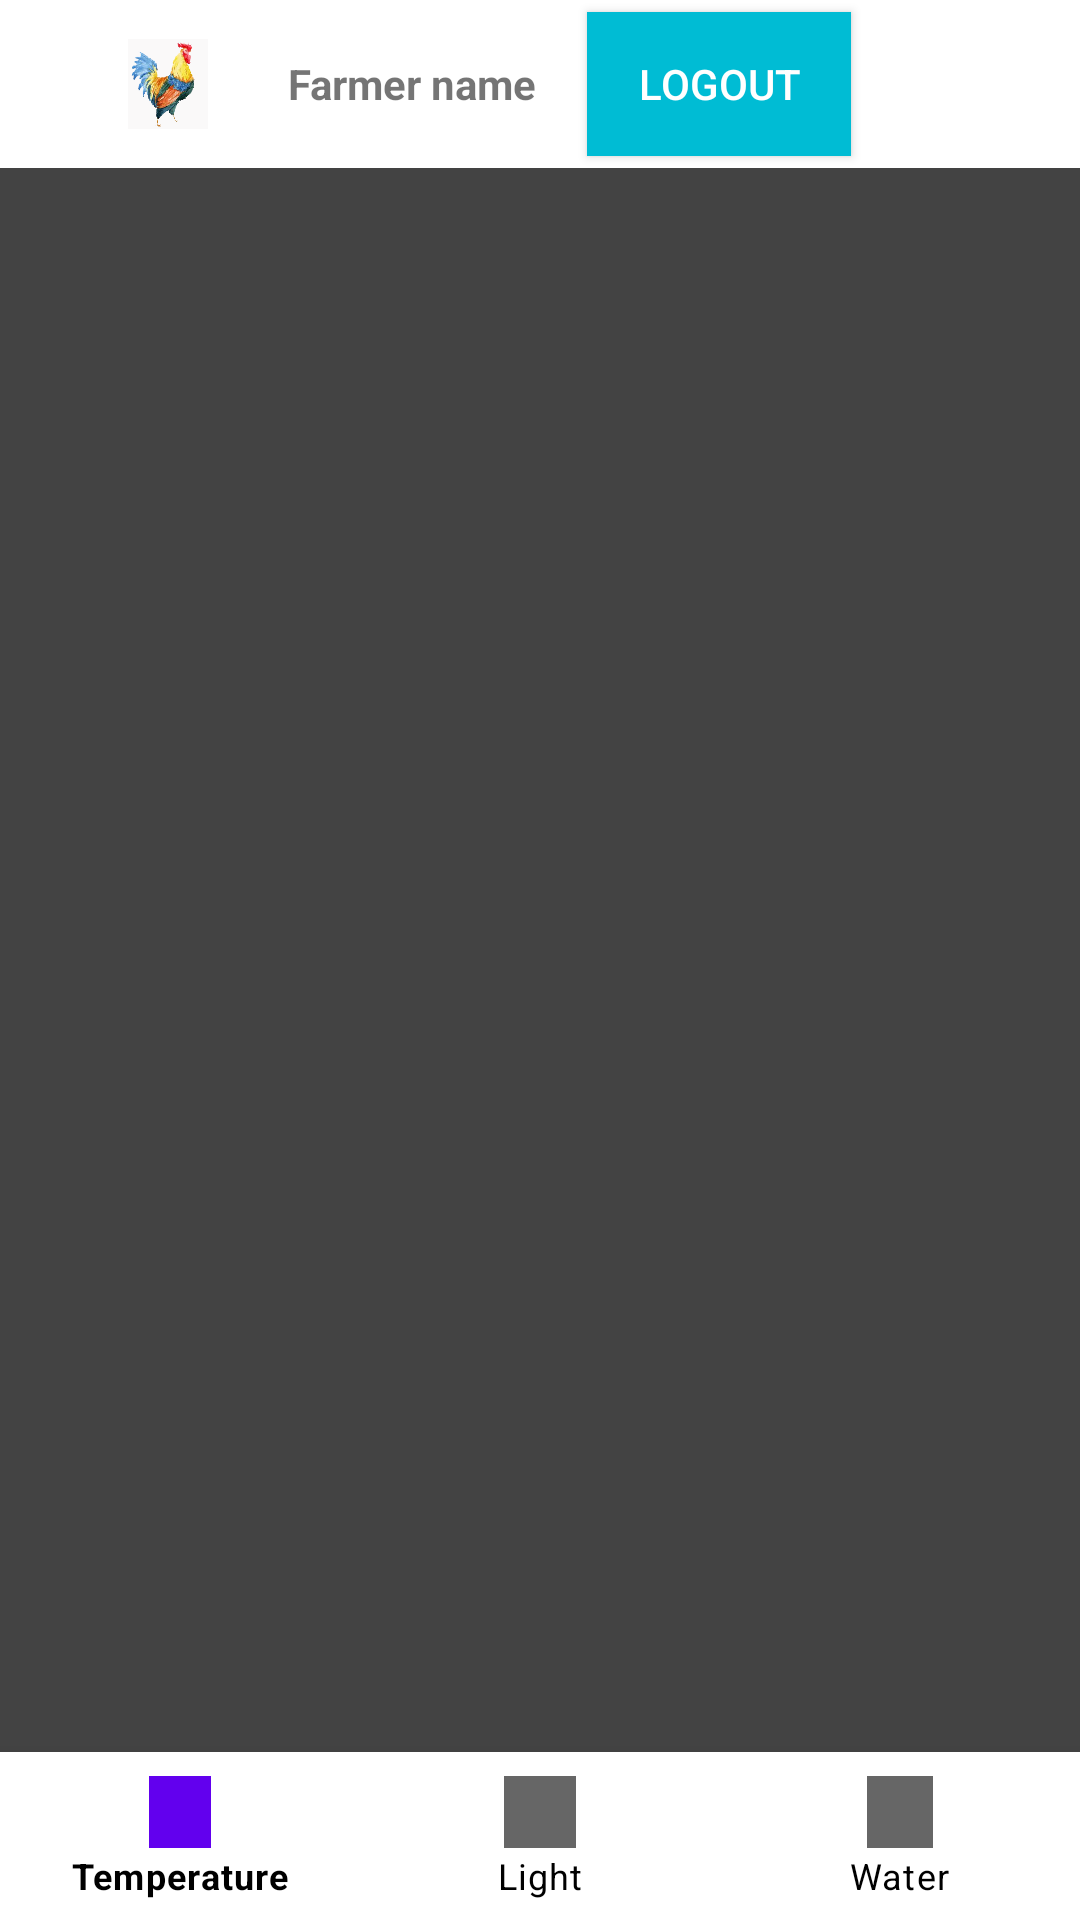

Locate icon controls on the screen. Image size 1080x1920, boxes as [left=x1, top=y1, right=x2, bottom=y2].
poultry: [left=132, top=43, right=195, bottom=127]
